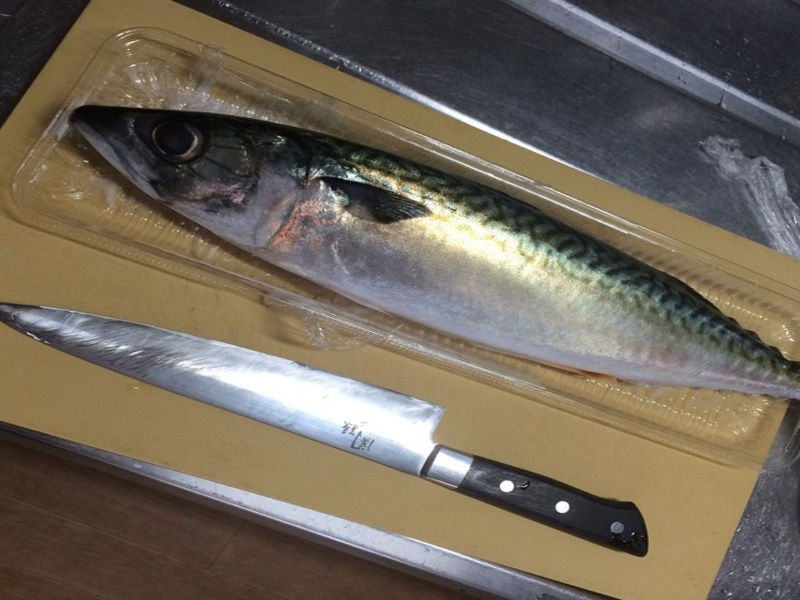knife: (1, 296, 656, 564)
